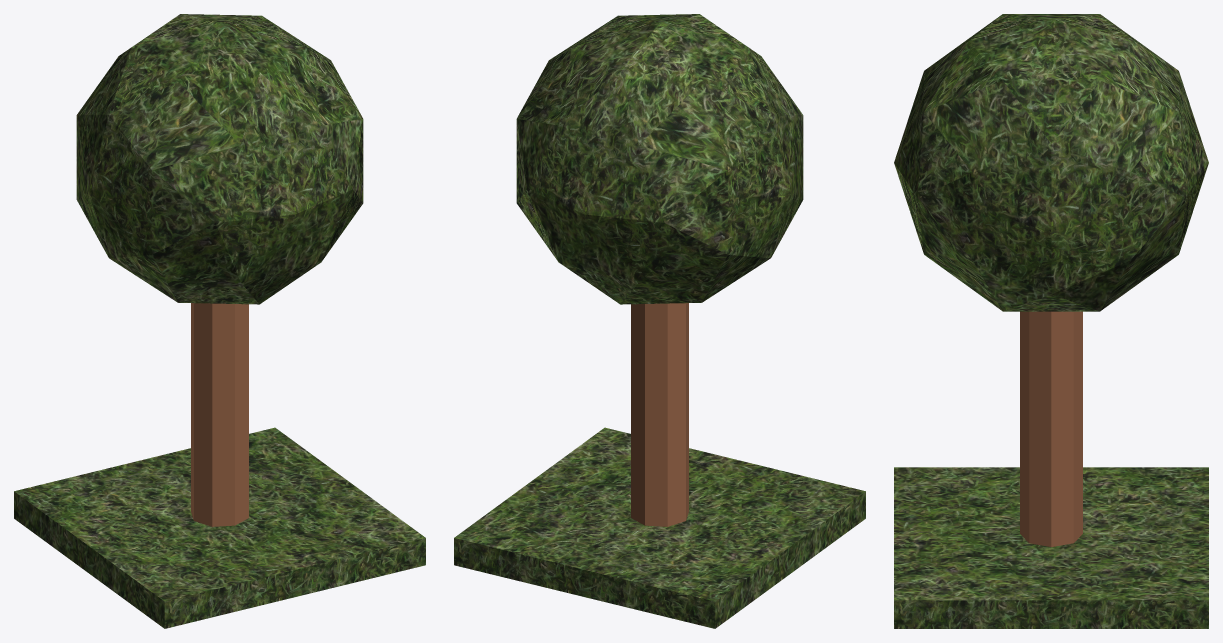
Rendered from Tree1.obj.
3 renders of one model, left to right at view 1: azimuth 30°, elevation 25°; view 2: azimuth 150°, elevation 25°; view 3: azimuth 270°, elevation 25°, orthographic. The views are drawn at different scales.
Size of the model in its own units: 1 by 1.9 by 1.
2 materials, 1 textured.
